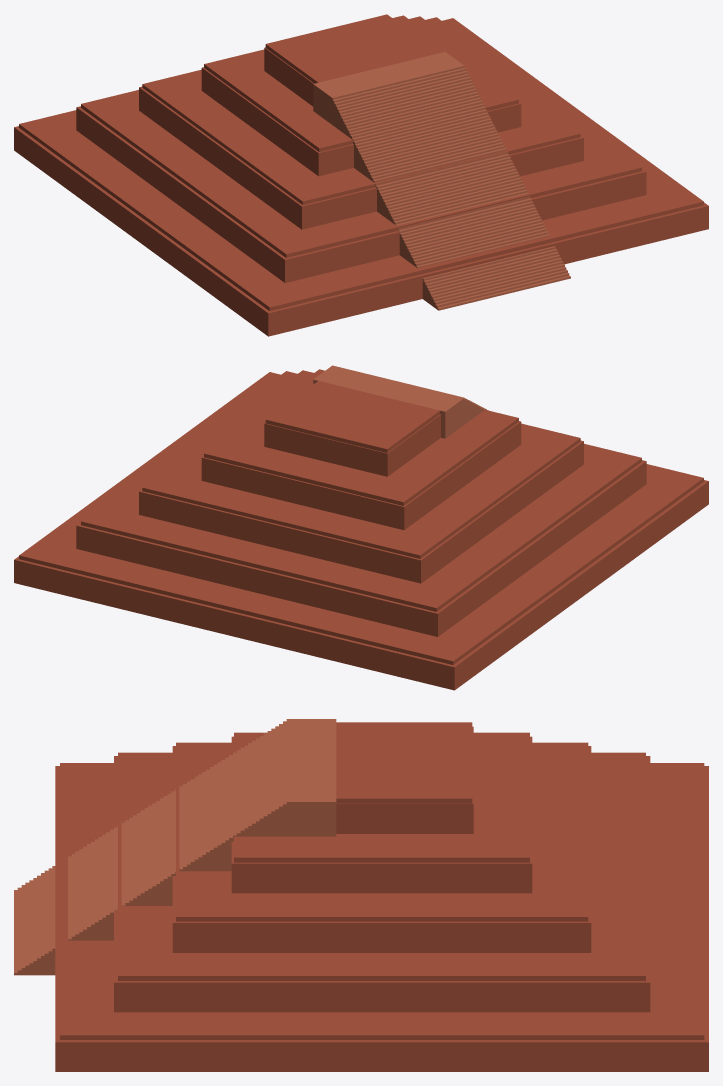
File: meso-teo-sun.glb
3 renders of one model, top to bottom at view 1: azimuth 30°, elevation 25°; view 2: azimuth 150°, elevation 25°; view 3: azimuth 270°, elevation 25°, orthographic. The views are drawn at different scales.
Visible parts, largest first — view 1: meso-body, meso-stair; view 2: meso-body, meso-stair; view 3: meso-body, meso-stair.
Boxes of the visible parts, x1,y1,x2,y2 form: meso-body: [14, 14, 708, 336]; meso-stair: [313, 51, 570, 310]; meso-body: [14, 369, 708, 690]; meso-stair: [313, 365, 488, 438]; meso-body: [55, 722, 708, 1071]; meso-stair: [14, 719, 336, 975].
Bounding box in the file's own units: 222 × 65 × 236.
